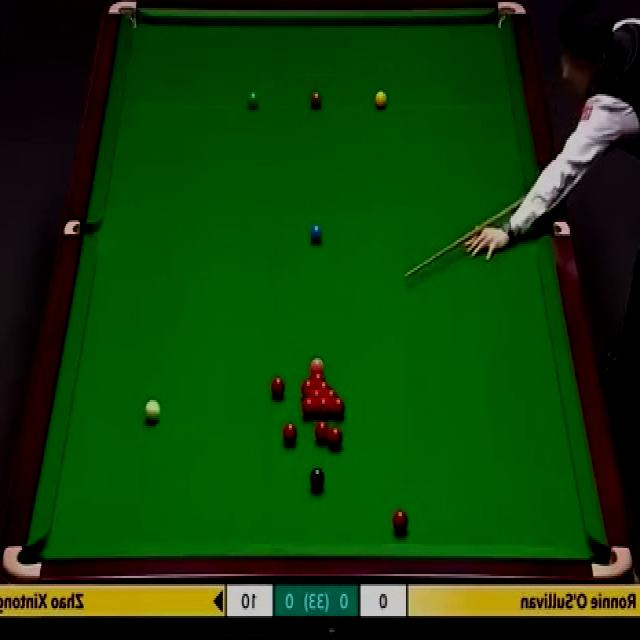pocket: (590, 542, 633, 582), (3, 542, 43, 583), (108, 0, 141, 32), (497, 1, 526, 28), (64, 218, 100, 237), (535, 222, 573, 238)
